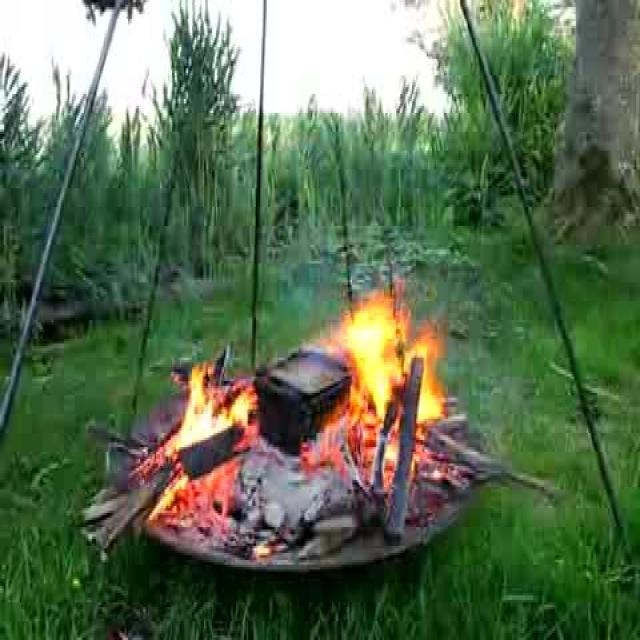fire: (344, 290, 446, 436)
